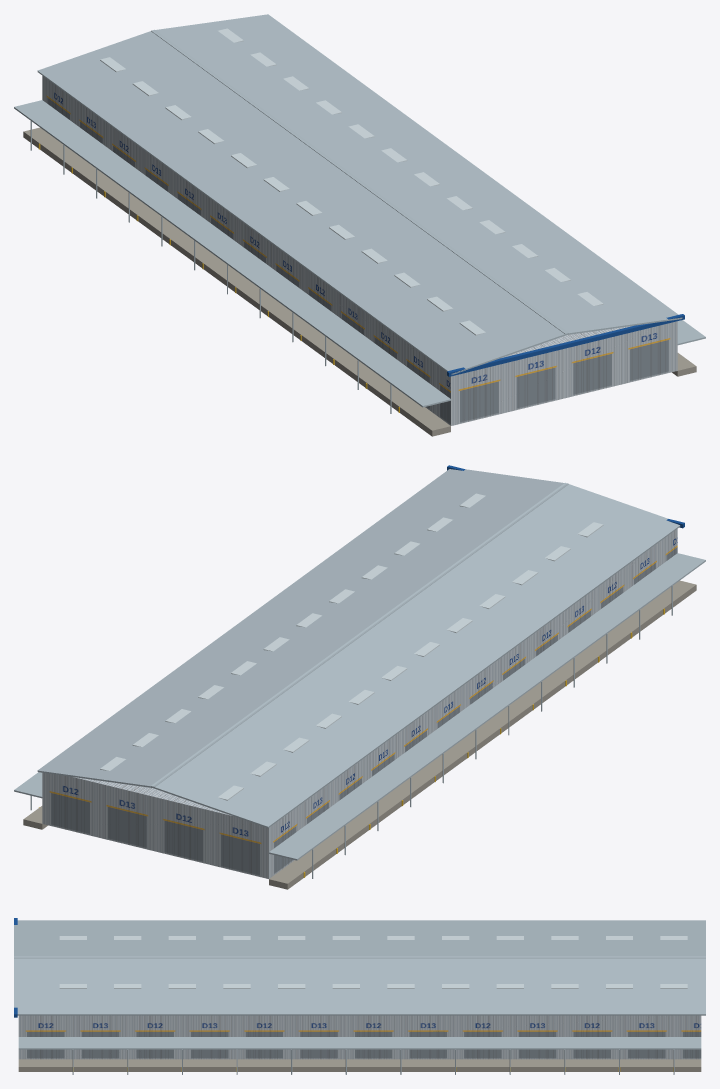
File: cfs_warehouse.glb
3 renders of one model, top to bottom at view 1: azimuth 30°, elevation 25°; view 2: azimuth 150°, elevation 25°; view 3: azimuth 270°, elevation 25°, orthographic. The views are drawn at different scales.
Visible parts, largest first — view 1: cfs; view 2: cfs; view 3: cfs.
Part boxes in pixels (x1=…): cfs: x1=14, y1=14, x2=705, y2=436; cfs: x1=14, y1=465, x2=705, y2=889; cfs: x1=14, y1=918, x2=705, y2=1074.
Bounding box in the file's own units: 60 × 14.8 × 152.
Materials: 6 (1 with a texture image).
